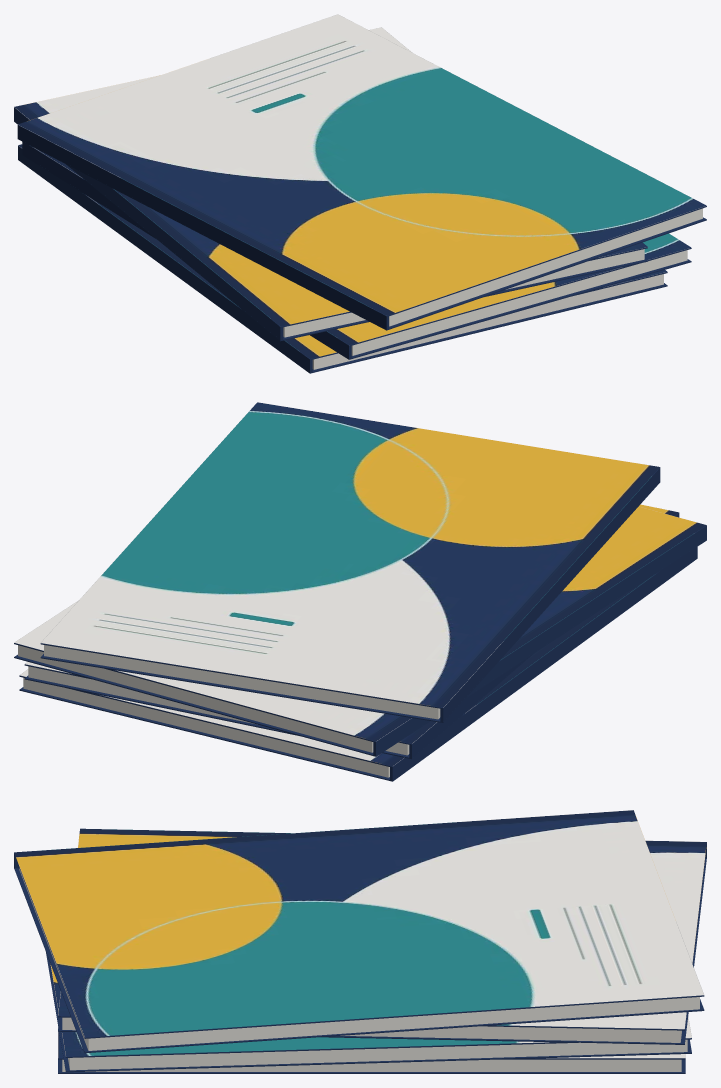
Rendered from item-82.glb.
3 renders of one model, top to bottom at view 1: azimuth 30°, elevation 25°; view 2: azimuth 150°, elevation 25°; view 3: azimuth 270°, elevation 25°, orthographic. The views are drawn at different scales.
Parts seen in each view (by area): view 1: art3, art2, spine3, spine0, pages1, pages3, art1, spine2, pages0, pages2, spine1, back3 (+6 smaller); view 2: art3, art2, pages3, spine0, pages0, spine2, pages2, spine3, art0, pages1, back0, back2 (+6 smaller); view 3: art3, pages3, art2, pages1, pages0, art1, pages2, back3, back1, front3, back0, back2 (+3 smaller).
Boxes of the visible parts, <box> form: art3: <box>18,14,706,315</box>; art2: <box>14,27,647,326</box>; spine3: <box>17,125,388,329</box>; spine0: <box>18,146,312,373</box>; pages1: <box>351,250,687,355</box>; pages3: <box>389,208,702,326</box>; art1: <box>34,148,690,345</box>; spine2: <box>14,107,283,340</box>; pages0: <box>312,274,663,369</box>; pages2: <box>283,249,644,337</box>; spine1: <box>22,142,351,358</box>; back3: <box>17,138,706,330</box>; art3: <box>41,402,659,707</box>; art2: <box>14,506,706,741</box>; pages3: <box>44,645,440,719</box>; spine0: <box>390,547,697,781</box>; pages0: <box>23,677,389,777</box>; spine2: <box>373,525,706,755</box>; pages2: <box>18,645,373,752</box>; spine3: <box>440,468,660,722</box>; art0: <box>20,575,653,766</box>; pages1: <box>28,666,409,755</box>; back0: <box>19,558,697,781</box>; back2: <box>14,539,706,756</box>; art3: <box>14,810,703,1037</box>; pages3: <box>19,868,699,1050</box>; art2: <box>58,828,706,1029</box>; pages1: <box>68,1039,687,1070</box>; pages0: <box>62,1059,681,1071</box>; art1: <box>50,965,691,1056</box>; pages2: <box>62,1017,681,1042</box>; back3: <box>14,868,704,1053</box>; back1: <box>46,952,691,1072</box>; front3: <box>14,853,704,1038</box>; back0: <box>58,1059,685,1073</box>; back2: <box>58,858,706,1044</box>.
Size of the model in its own units: 0.2546 by 0.0331 by 0.3279.
3 materials, 1 textured.
